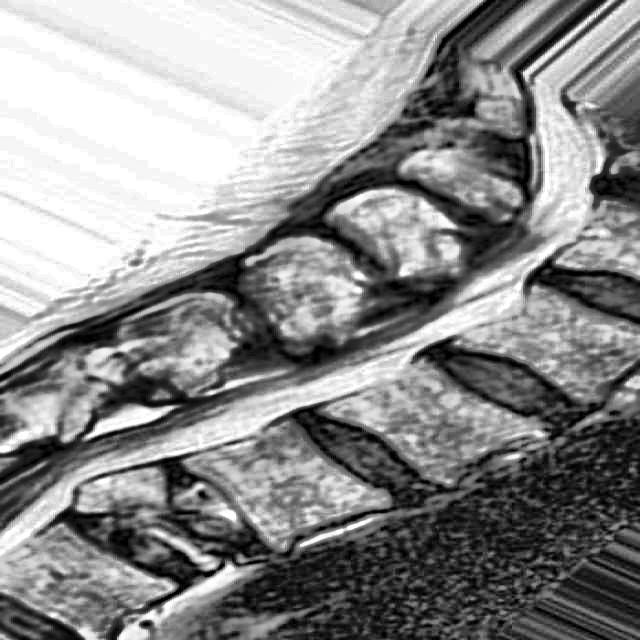Comminuted: (65, 463, 254, 587)
